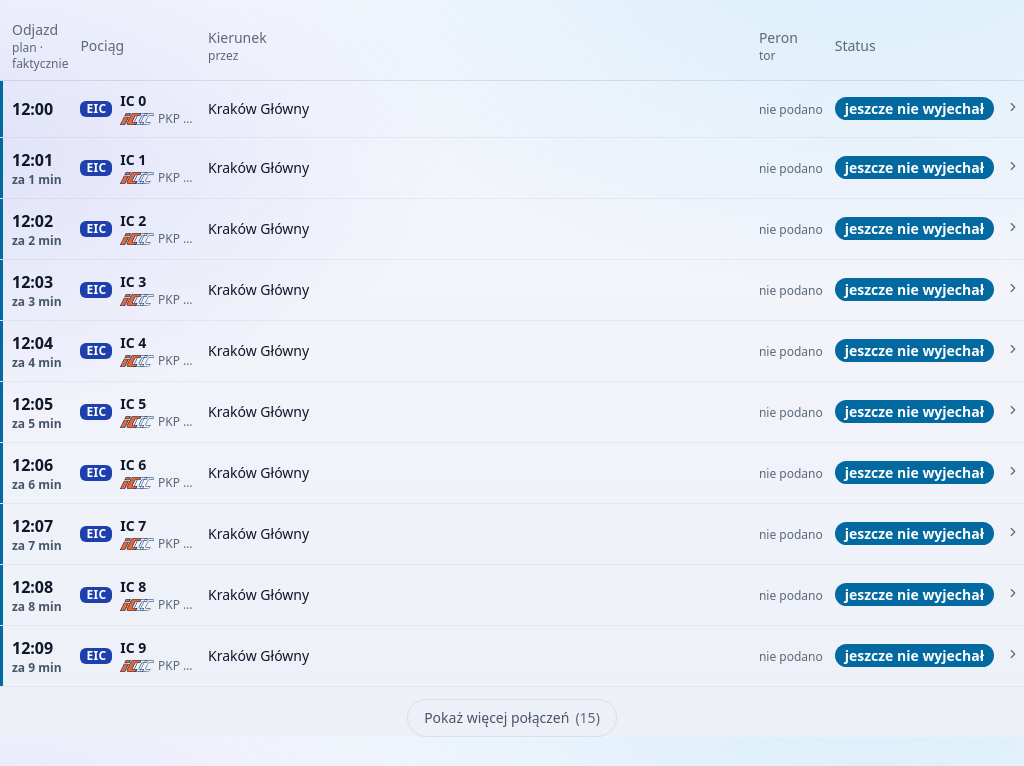
Test: BoardTable — rozwijanie listy › shows ten rows first and reveals the rest on demand, without fetching anything
Click the button "Pokaż więcej połączeń (15)".
click(512, 718)  # box [407, 699, 617, 737]
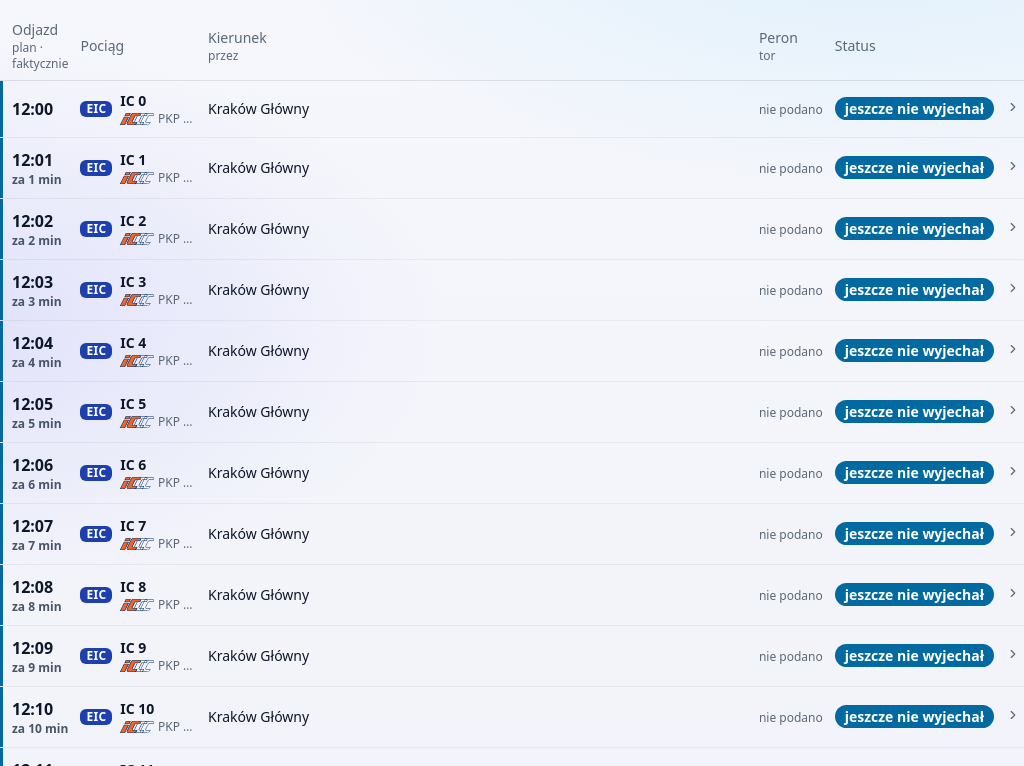
Expected: the button "Pokaż więcej połączeń" is gone
